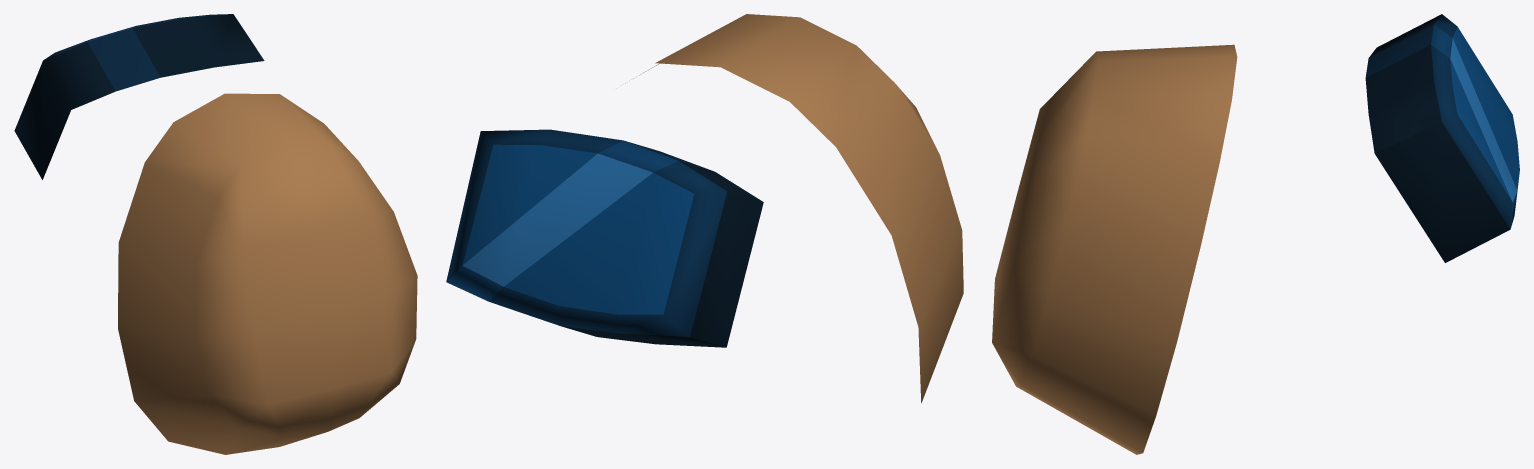
Rendered from hat_amongEgg_03.glb.
The picture shows the model from 3 angles, left to right: view 1: azimuth 30°, elevation 25°; view 2: azimuth 150°, elevation 25°; view 3: azimuth 270°, elevation 25°; orthographic projection. The views are drawn at different scales.
Visible parts, largest first — view 1: hat_amongEgg_03; view 2: hat_amongEgg_03; view 3: hat_amongEgg_03.
Boxes of the visible parts, x1,y1,x2,y2 form: hat_amongEgg_03: [14, 14, 417, 454]; hat_amongEgg_03: [446, 14, 963, 403]; hat_amongEgg_03: [992, 14, 1519, 454].
Size of the model in its own units: 0.3682 by 0.4331 by 0.5396.
